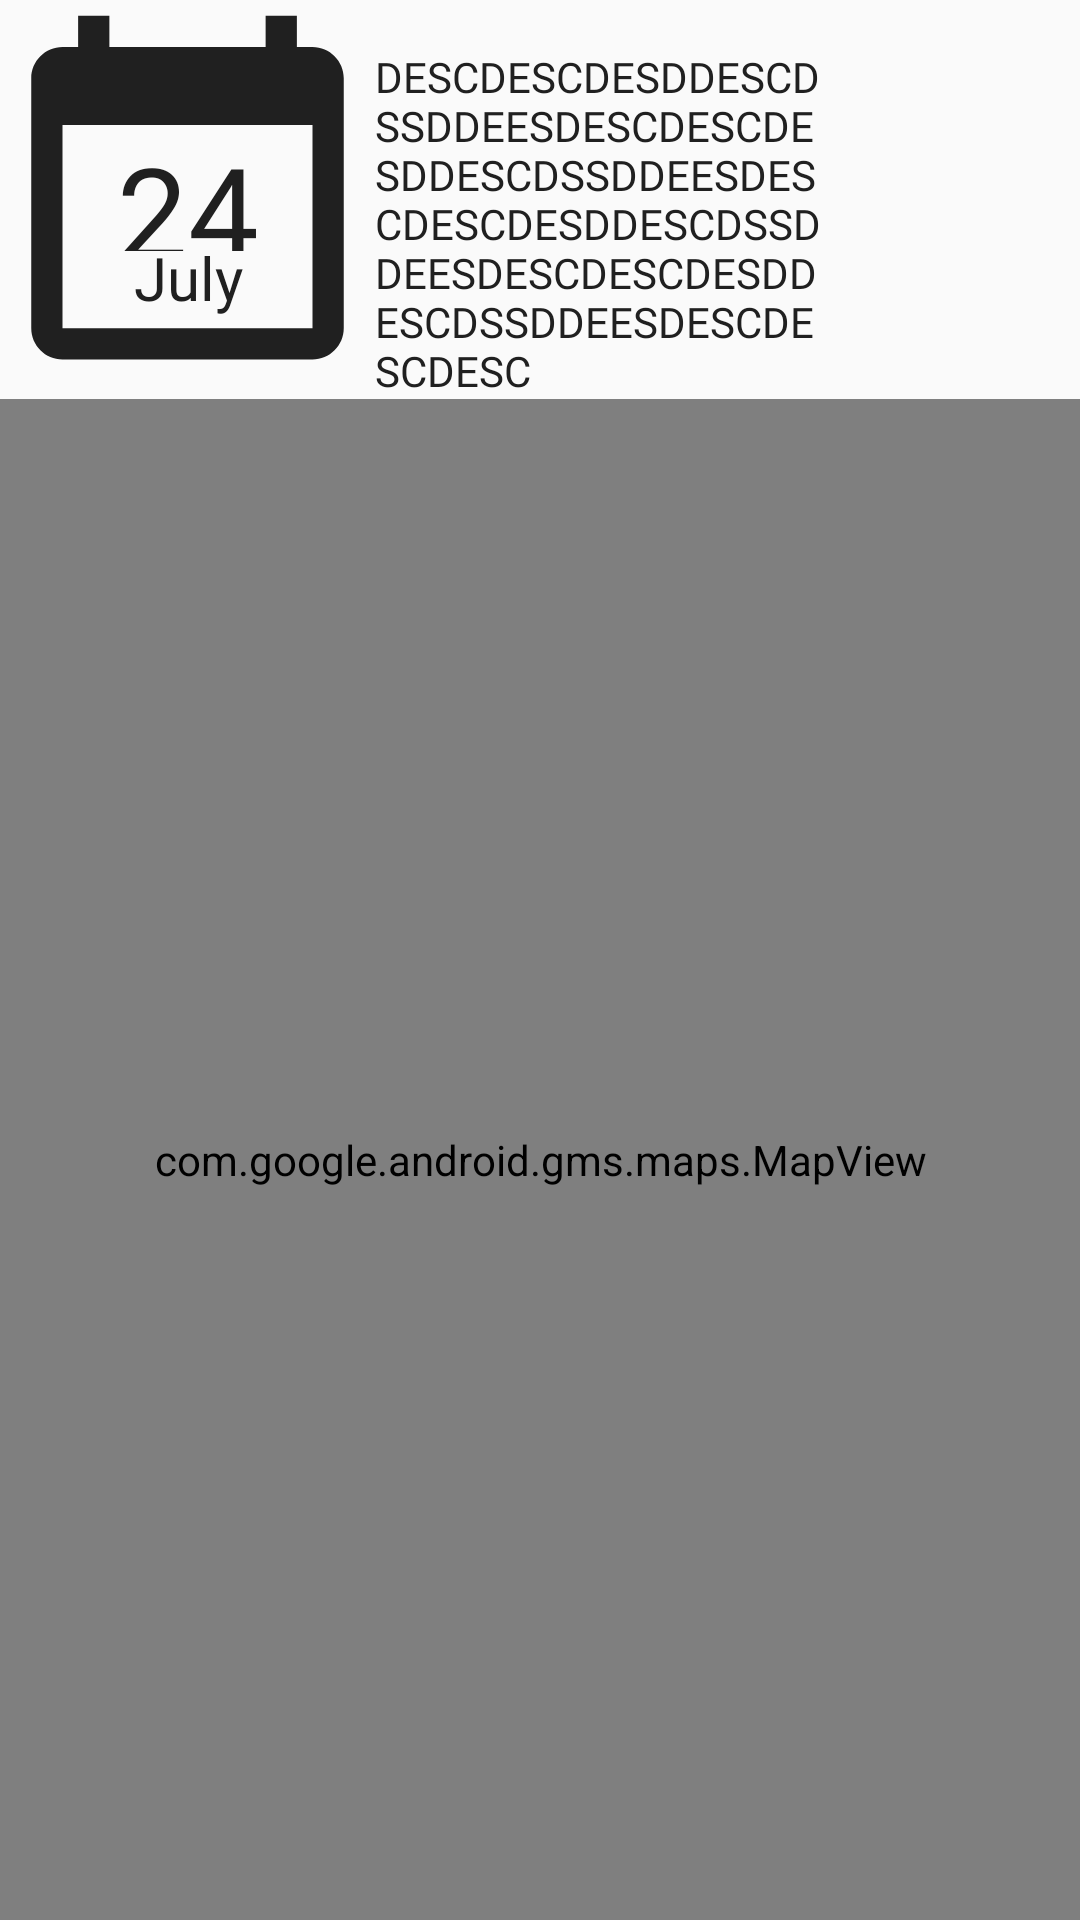

Point at icon controls on the screen. Image size 1080x1920, points as [x,y].
calendar: [187,187]
